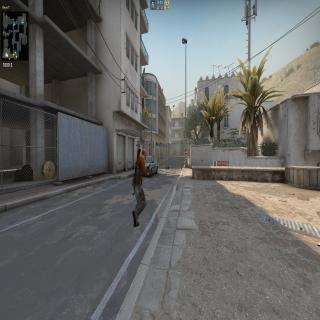T-Head: (141, 148, 147, 161)
